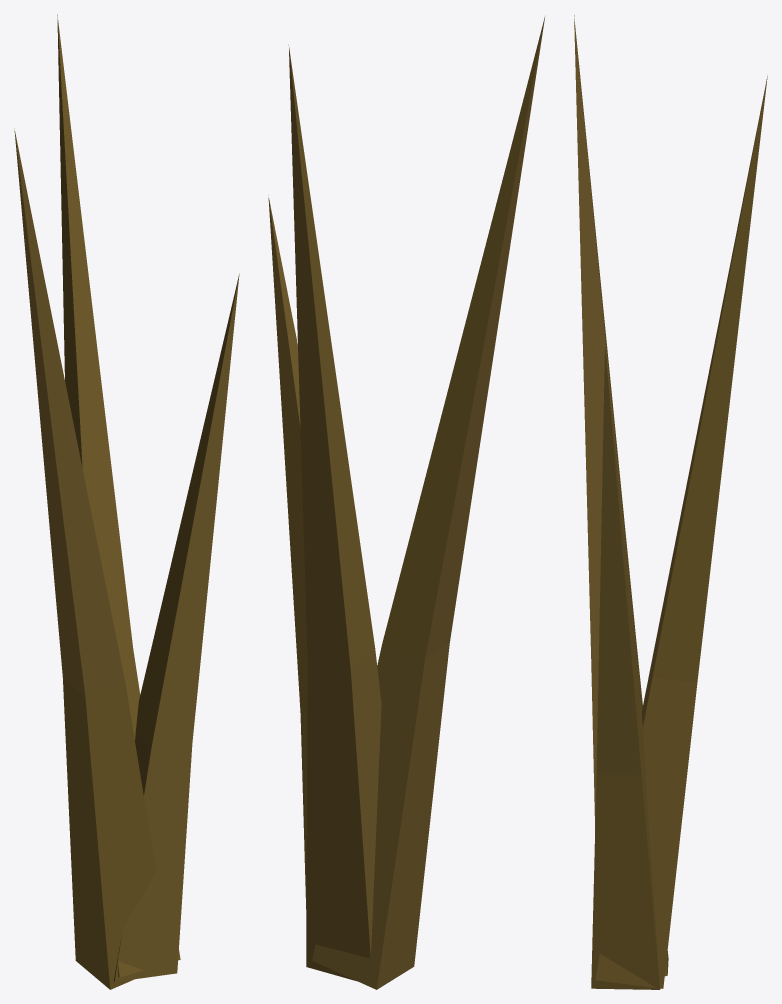
Rendered from grass.fbx.
3 renders of one model, left to right at view 1: azimuth 30°, elevation 25°; view 2: azimuth 150°, elevation 25°; view 3: azimuth 270°, elevation 25°, orthographic. The views are drawn at different scales.
Parts seen in each view (by area): view 1: grass; view 2: grass; view 3: grass.
Part boxes in pixels (left/top/right/bottom): grass: left=14, top=14, right=239, bottom=989; grass: left=268, top=16, right=545, bottom=989; grass: left=574, top=15, right=767, bottom=989.
Size of the model in its own units: 67.85 by 244 by 47.44.
